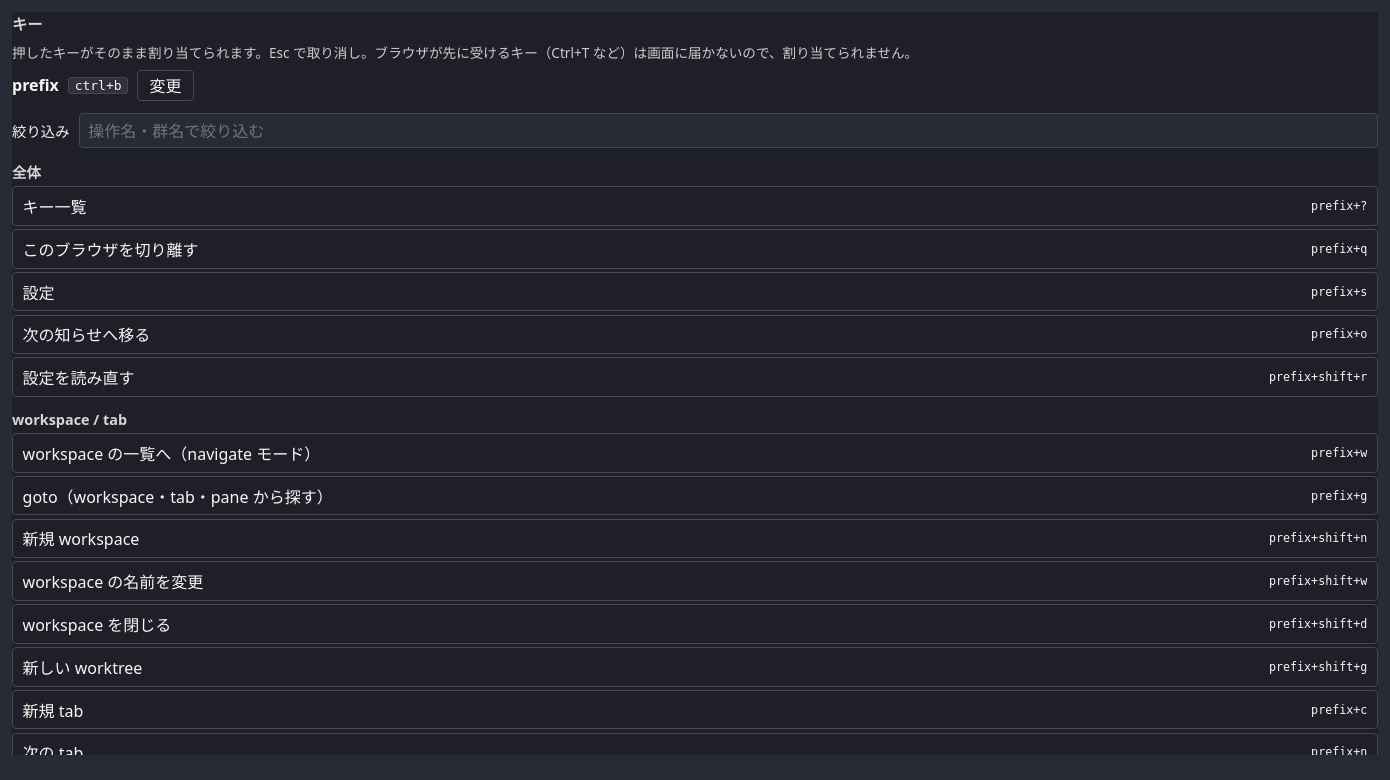
Test: KeySettings — prefix の変更（AC3・AC-I1〜I5） › いま直接のキーに使われているキーは prefix にできない（持ち主の名前を出す）
The image size is (1390, 780).
Click the button "変更" at {"x": 166, "y": 85}, box x1=137 y1=70 x2=194 y2=101
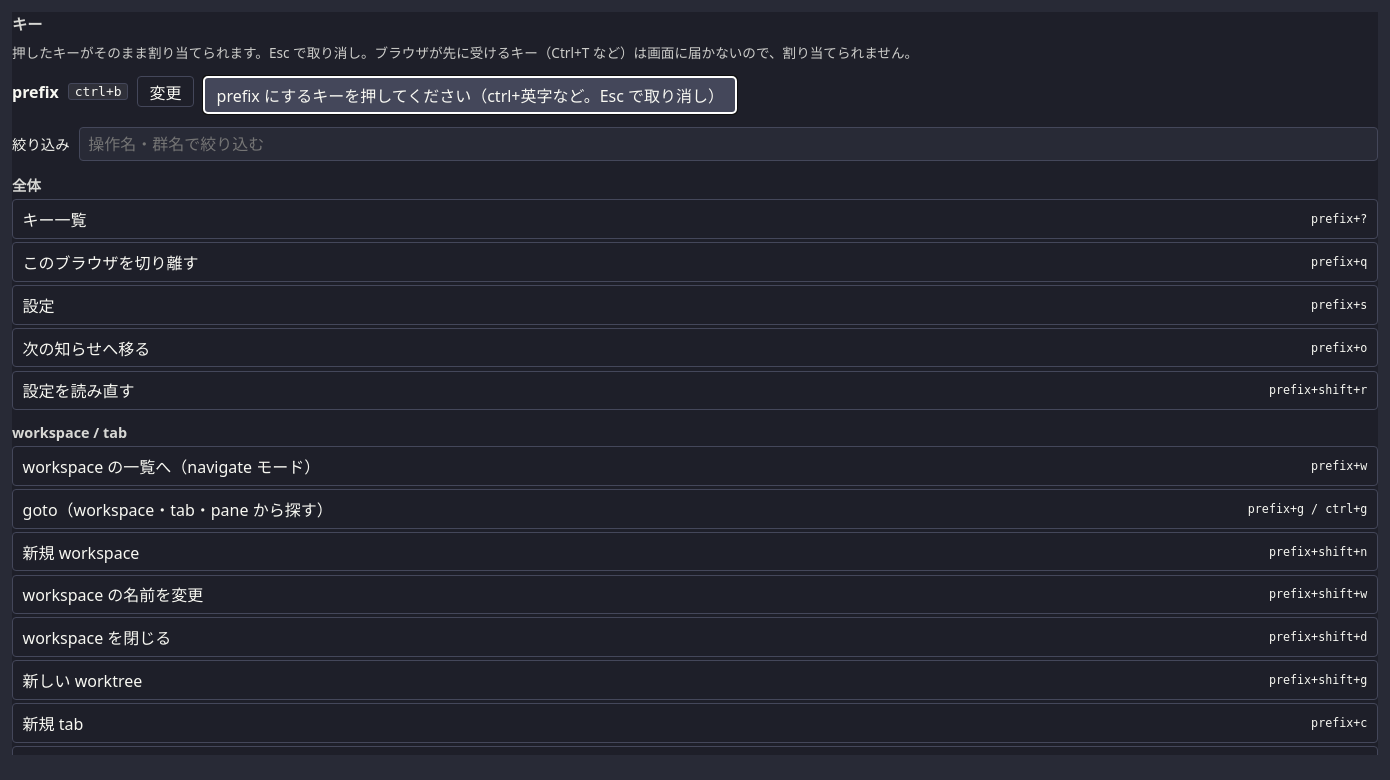
Press g in the button with class "keys-capture", box x1=203 y1=76 x2=737 y2=114
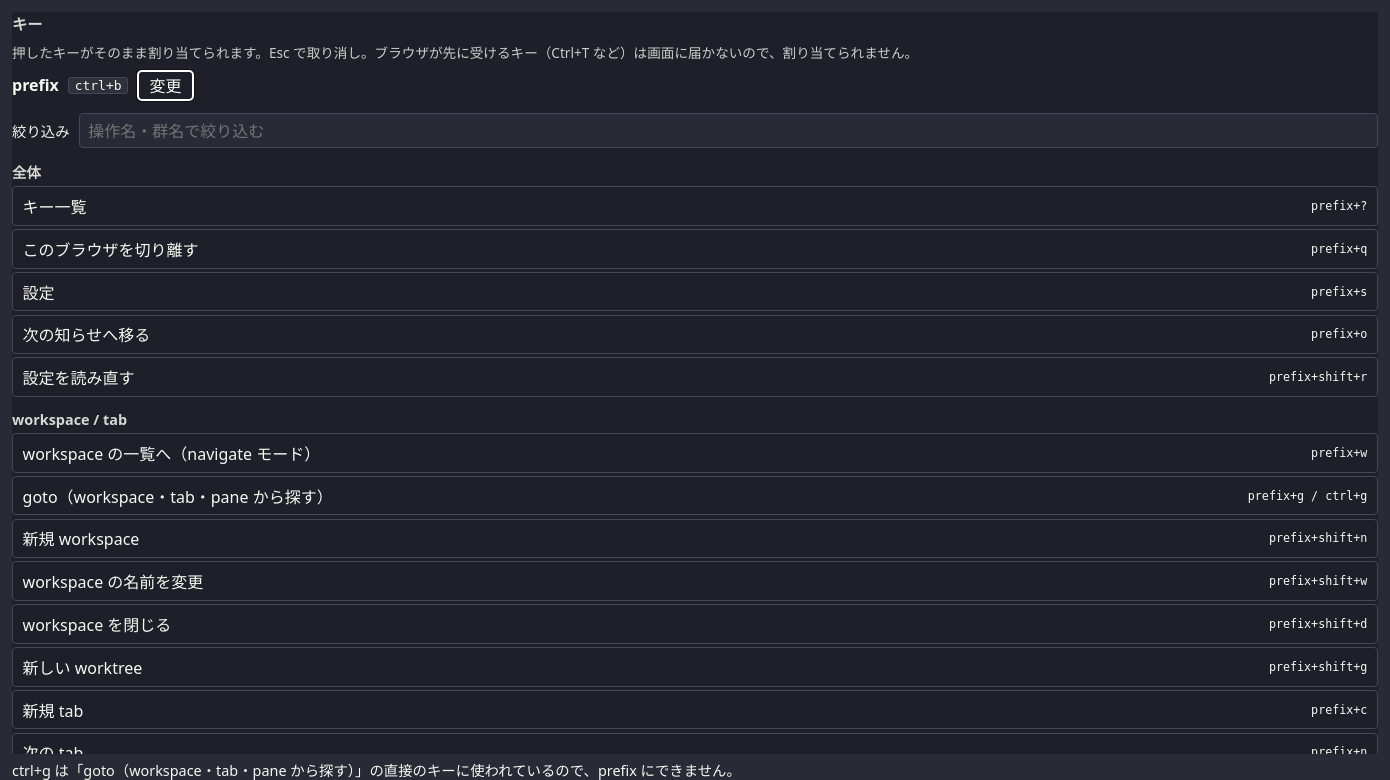
Expected: the text "ctrl+b" is shown, x1=68 y1=77 x2=128 y2=94
Expected: the message "ctrl+g は「goto（workspace・tab・pane から探す）」の直接のキーに使われているので、prefix にできません。" is shown, x1=12 y1=761 x2=741 y2=779
